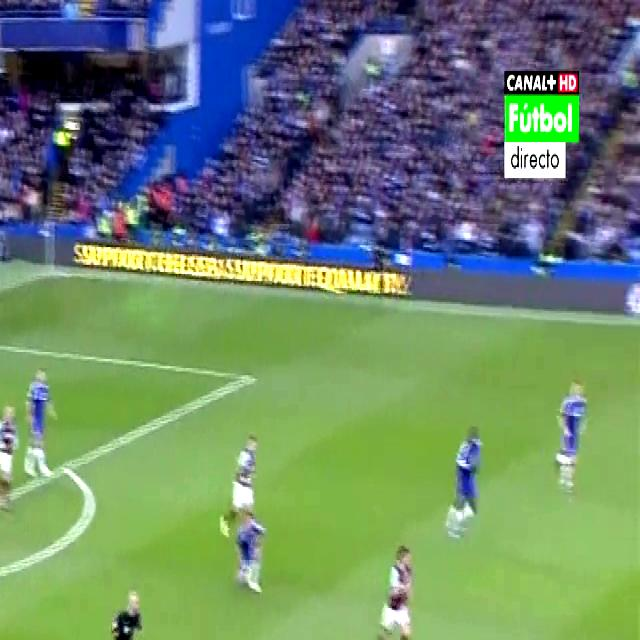referee: (367, 211, 398, 318), (102, 570, 146, 640)
soccer-player: (361, 530, 427, 640), (219, 407, 263, 541), (449, 405, 490, 543), (548, 355, 589, 488), (22, 364, 67, 474), (230, 510, 272, 612), (0, 386, 20, 505)
